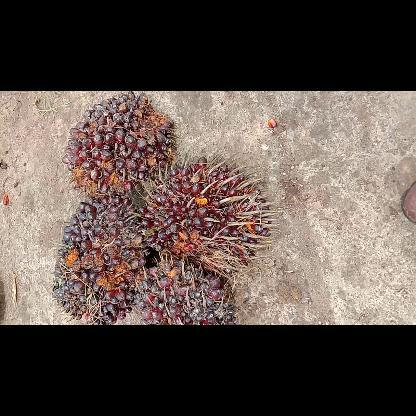Kurang masak: (136, 153, 274, 279), (50, 188, 158, 324), (58, 90, 178, 202), (130, 252, 240, 324)
